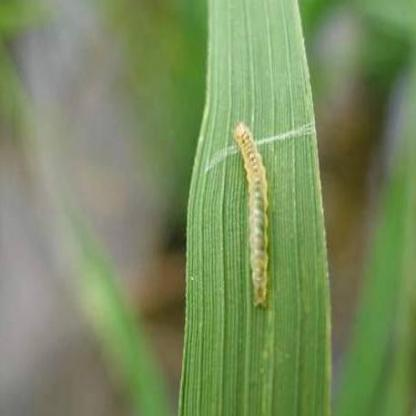leaf-folder: (226, 107, 282, 316)
